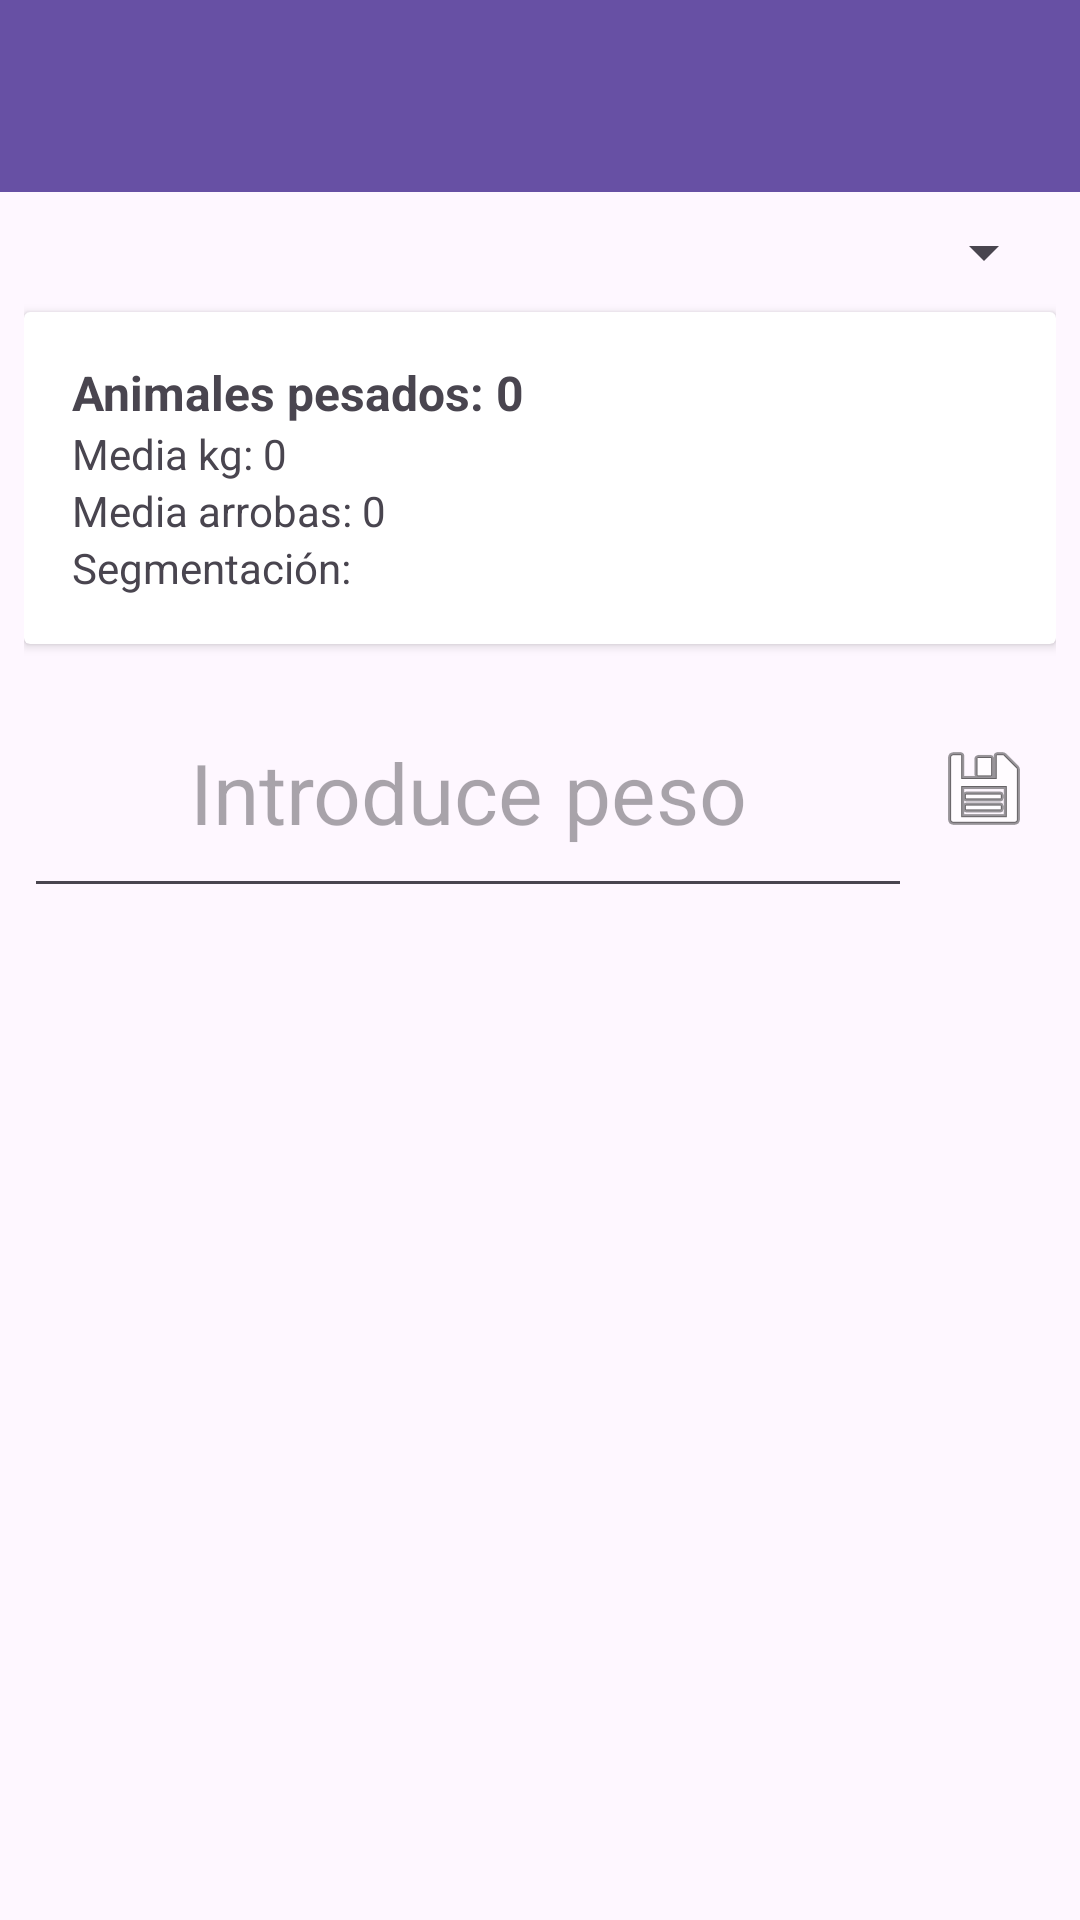

Icon click points for this 1080w x 1920h phone screenshot, format (x,y):
Guardar Peso: (984,788)
